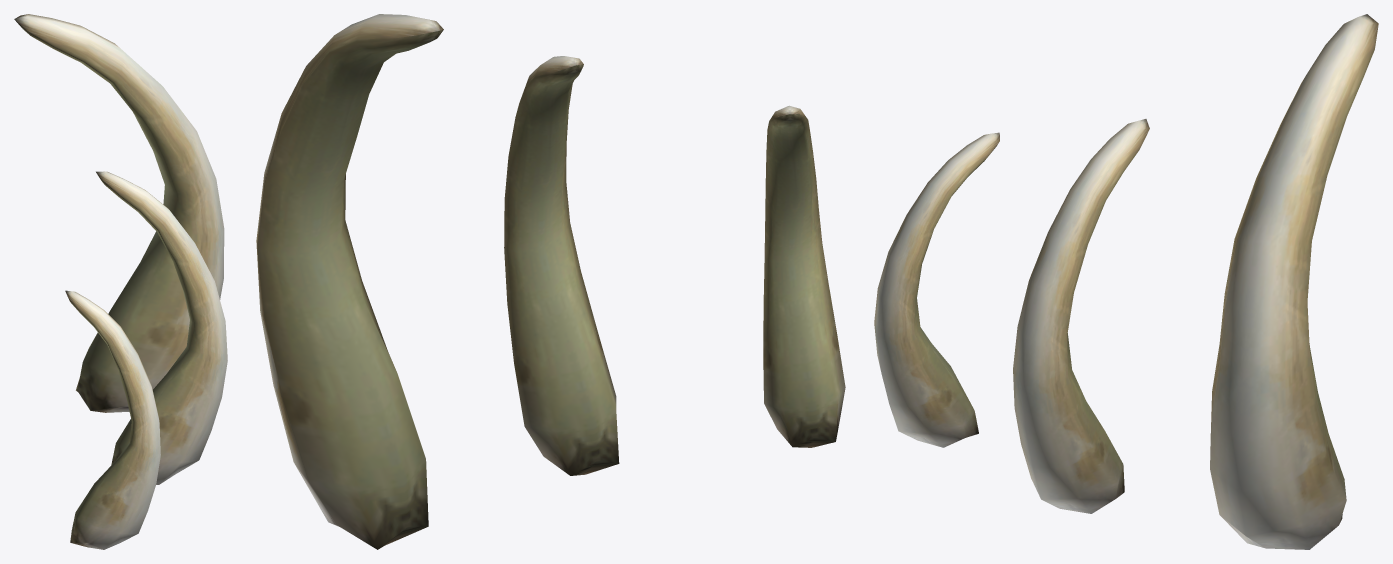
The model's file is db_dragonspareribs02.obj.
3 views of the same model, side by side, from view 1: azimuth 30°, elevation 25°; view 2: azimuth 150°, elevation 25°; view 3: azimuth 270°, elevation 25° (orthographic). The views are drawn at different scales.
Parts seen in each view (by area): view 1: db_dragonspareribs02; view 2: db_dragonspareribs02; view 3: db_dragonspareribs02.
Boxes of the visible parts, left/top/right/bottom form: db_dragonspareribs02: left=14, top=14, right=227, bottom=549; db_dragonspareribs02: left=256, top=14, right=845, bottom=549; db_dragonspareribs02: left=874, top=14, right=1378, bottom=549.
Bounding box in the file's own units: 7.79 × 10.83 × 10.06.
1 material, 1 textured.
